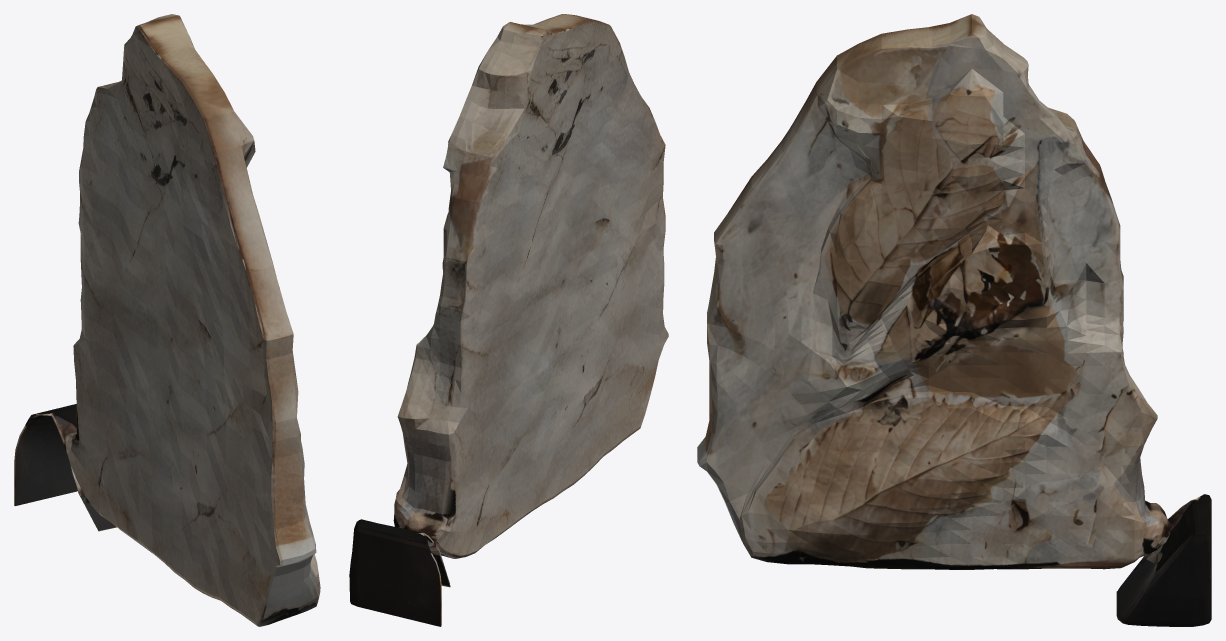
File: plant_leaf_fossils_001.glb
3 renders of one model, left to right at view 1: azimuth 30°, elevation 25°; view 2: azimuth 150°, elevation 25°; view 3: azimuth 270°, elevation 25°, orthographic. The views are drawn at different scales.
Parts seen in each view (by area): view 1: tripo_node_add60caa-7283-4e18-83b6-d318f507d2e2; view 2: tripo_node_add60caa-7283-4e18-83b6-d318f507d2e2; view 3: tripo_node_add60caa-7283-4e18-83b6-d318f507d2e2.
Part boxes in pixels (x1,y1,x2,y2): tripo_node_add60caa-7283-4e18-83b6-d318f507d2e2: (14, 14, 320, 626); tripo_node_add60caa-7283-4e18-83b6-d318f507d2e2: (349, 14, 668, 626); tripo_node_add60caa-7283-4e18-83b6-d318f507d2e2: (697, 14, 1211, 626).
Size of the model in its own units: 0.1844 by 0.9438 by 0.7794.
Materials: 1 (1 with a texture image).
